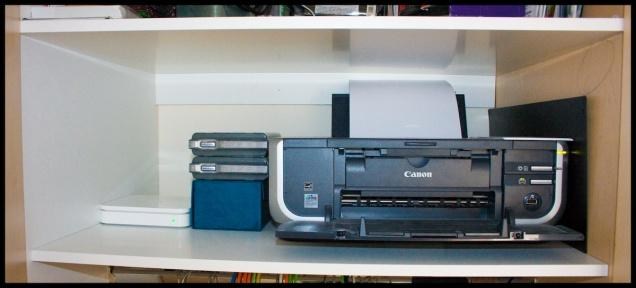Printer: (268, 78, 586, 244)
